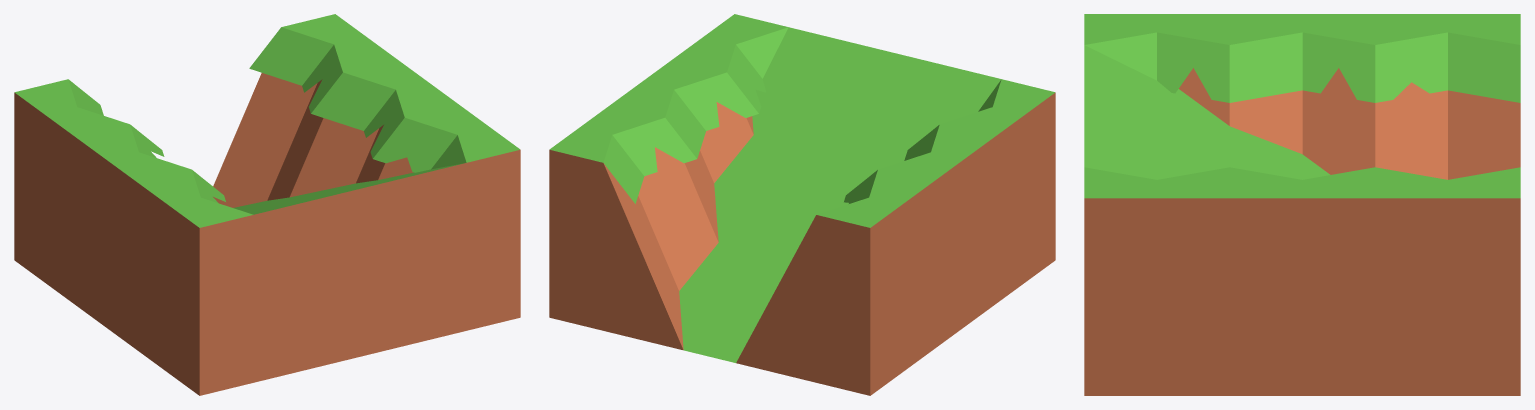
Rendered from cliff_blockSlopeHalfWalls_rock.glb.
The picture shows the model from 3 angles, left to right: view 1: azimuth 30°, elevation 25°; view 2: azimuth 150°, elevation 25°; view 3: azimuth 270°, elevation 25°; orthographic projection. The views are drawn at different scales.
Visible parts, largest first — view 1: cliff_blockSlopeHalfWalls_rock; view 2: cliff_blockSlopeHalfWalls_rock; view 3: cliff_blockSlopeHalfWalls_rock.
Part boxes in pixels (x1,y1,x2,y2): cliff_blockSlopeHalfWalls_rock: (14,14,520,395); cliff_blockSlopeHalfWalls_rock: (549,14,1055,395); cliff_blockSlopeHalfWalls_rock: (1084,14,1520,395).
Size of the model in its own units: 1 by 0.5 by 1.
